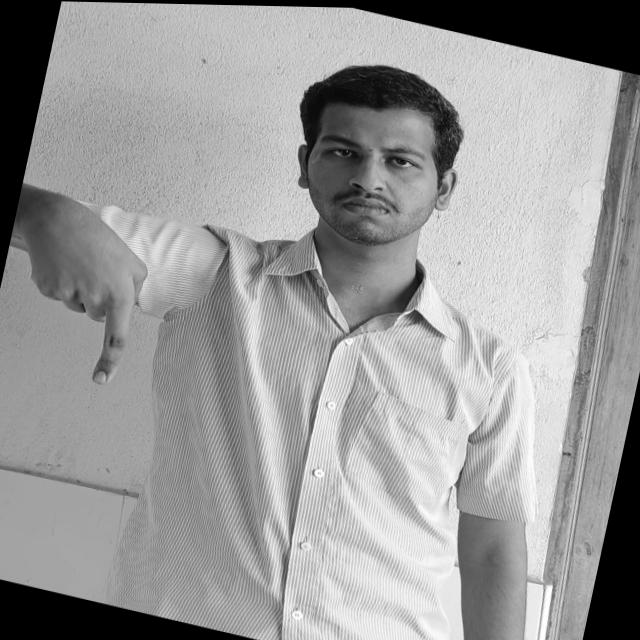Now: (3, 199, 158, 391)
